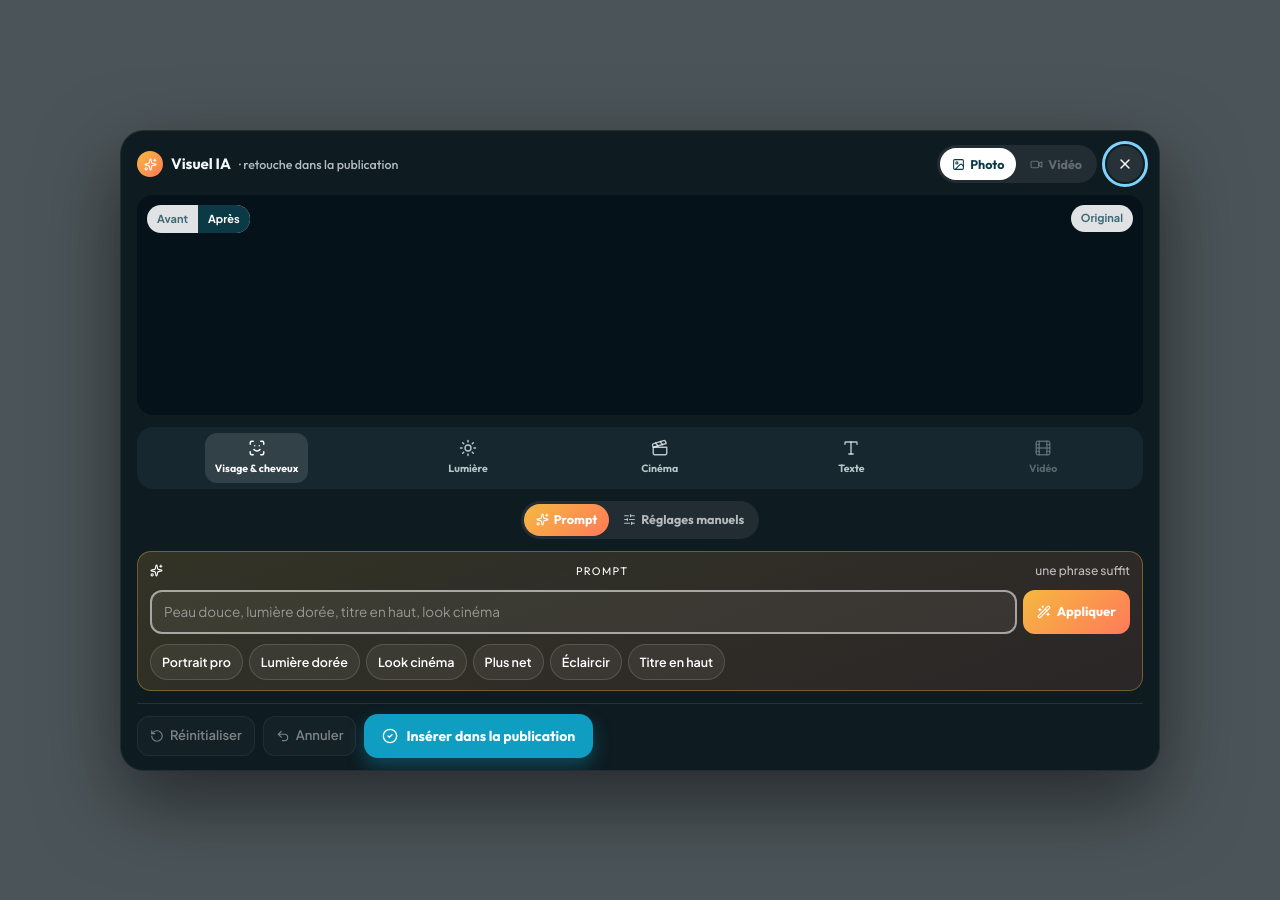
Test: studio « Visuel IA » (DEC-2026-061, B10) › mode Prompt : sans consigne, le texte de la publication sert ; une réponse inexploitable donne une erreur, pas un faux succès
Step 1. Click the button "Appliquer" → (1076, 611), box [1023, 589, 1130, 633]
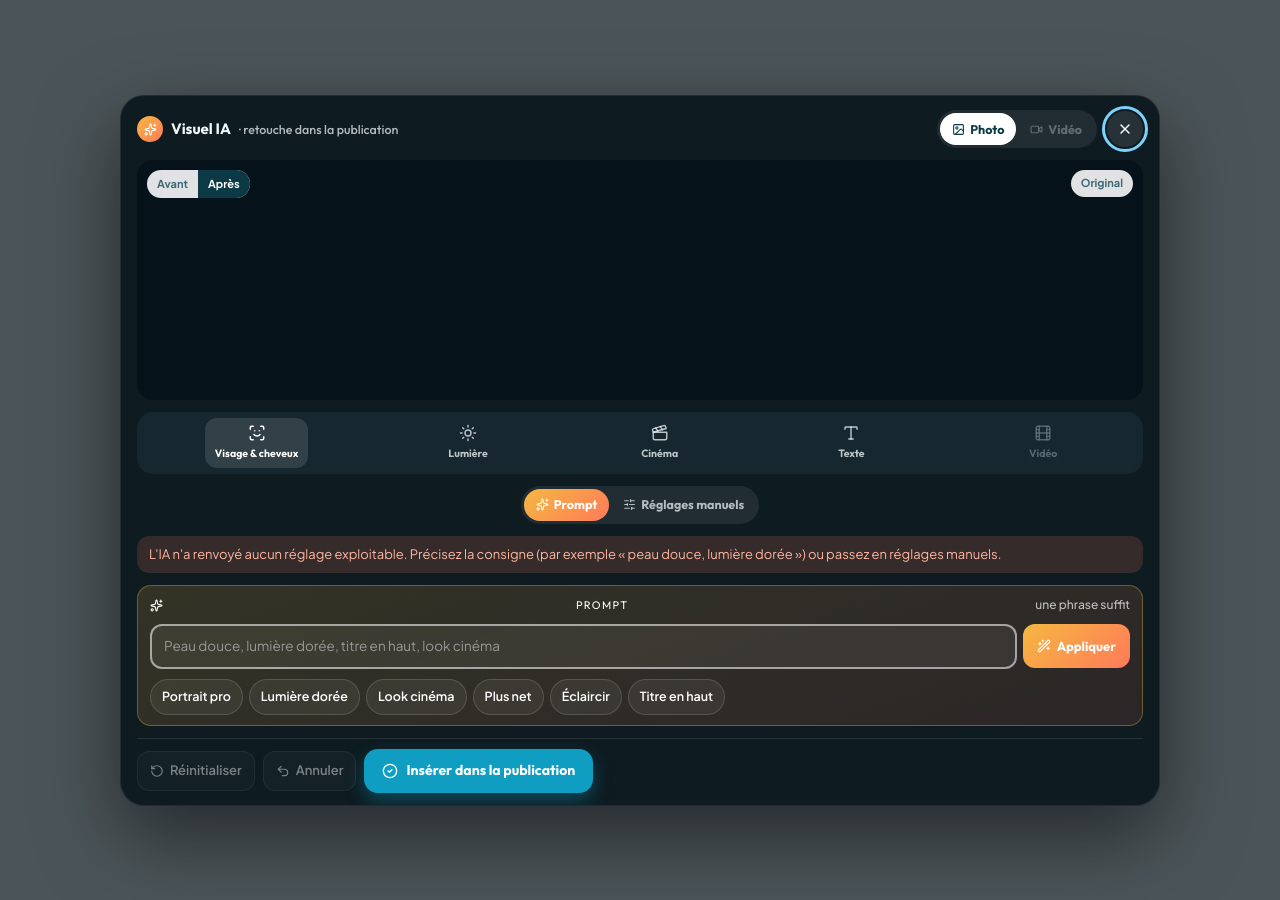
Expected: the button "Réinitialiser" is disabled, [137, 750, 255, 790]
Expected: the message shows "aucun réglage exploitable", [149, 546, 1001, 562]
